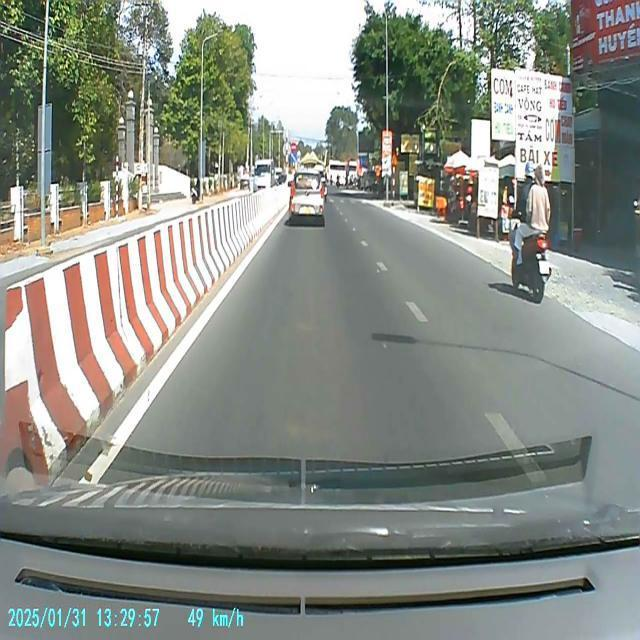102-cam-di-nguoc-chieu: (290, 142, 296, 152)
302a-huong-phai-di-vong-chuong-ngai-vat-1: (290, 153, 297, 163)
